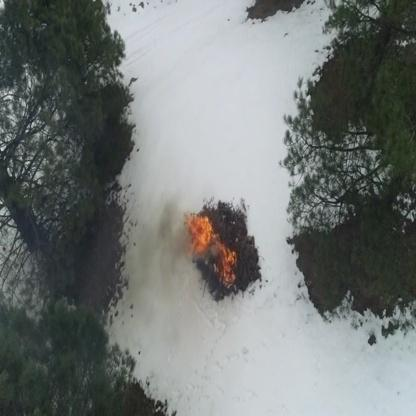Fire: (188, 214, 212, 256), (217, 245, 235, 287), (213, 234, 220, 245)
